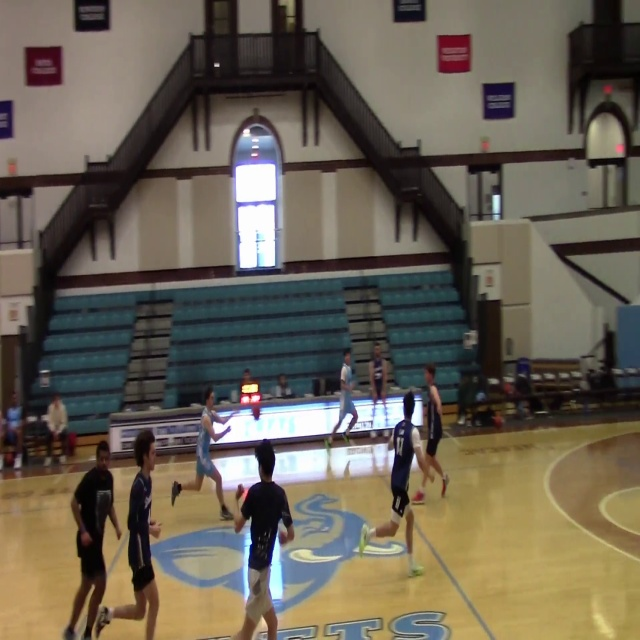Basketball: (149, 523, 161, 539), (235, 484, 245, 500), (279, 530, 288, 544)
